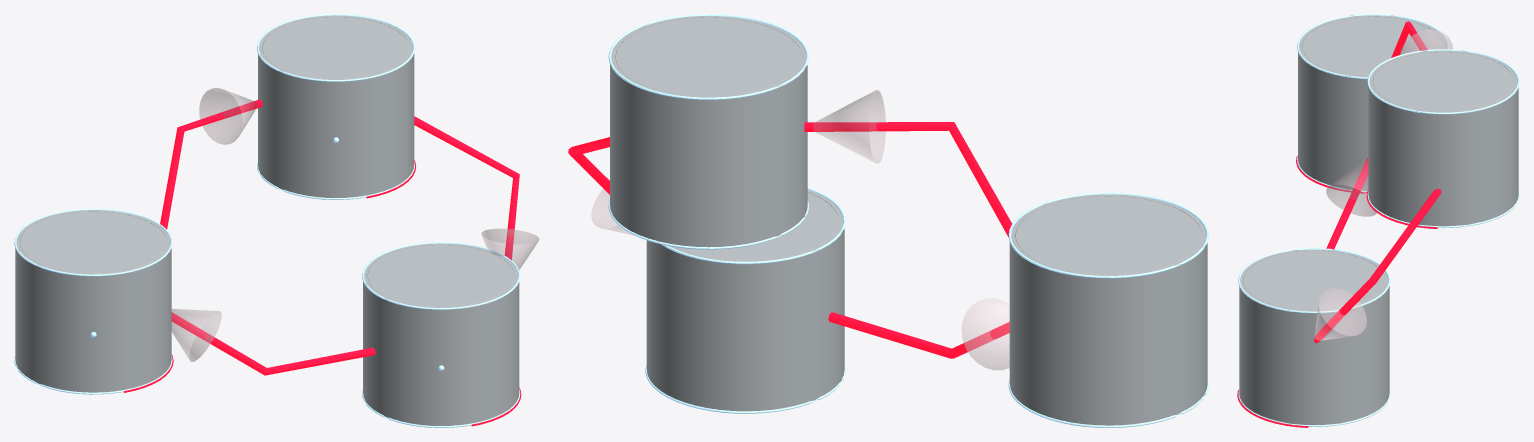
File: 12-data-pipeline.glb
3 renders of one model, left to right at view 1: azimuth 30°, elevation 25°; view 2: azimuth 150°, elevation 25°; view 3: azimuth 270°, elevation 25°, orthographic. The views are drawn at different scales.
Visible parts, largest first — view 1: BC thin clear technical glass, BC subtle ruby technical glass, BC ruby signal edge, BC cool glass edge; view 2: BC thin clear technical glass, BC subtle ruby technical glass, BC ruby signal edge, BC cool glass edge; view 3: BC thin clear technical glass, BC subtle ruby technical glass, BC ruby signal edge, BC cool glass edge.
Boxes of the visible parts, x1,y1,x2,y2 form: BC thin clear technical glass: (15, 15, 519, 425); BC subtle ruby technical glass: (171, 87, 539, 361); BC ruby signal edge: (124, 99, 521, 426); BC cool glass edge: (14, 14, 520, 427); BC thin clear technical glass: (610, 15, 1207, 425); BC subtle ruby technical glass: (591, 90, 1009, 370); BC ruby signal edge: (568, 122, 1011, 358); BC cool glass edge: (608, 14, 1208, 427); BC thin clear technical glass: (1239, 15, 1518, 425); BC subtle ruby technical glass: (1315, 29, 1452, 340); BC ruby signal edge: (1237, 21, 1441, 427); BC cool glass edge: (1238, 14, 1519, 426).
Size of the model in its own units: 2.34 by 1.39 by 1.2.
